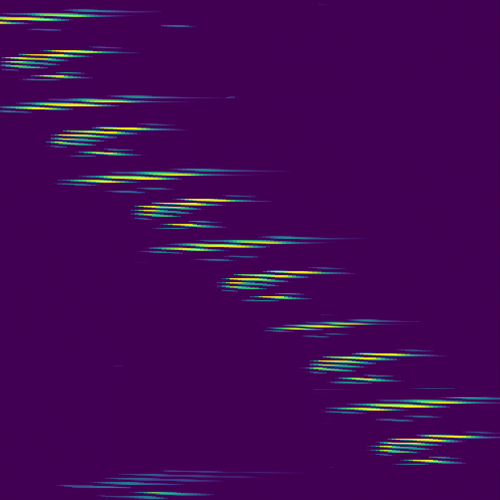semblance: (2, 43, 119, 80), (51, 122, 160, 158), (135, 194, 242, 229), (375, 431, 480, 466), (305, 350, 415, 383), (223, 267, 324, 301), (68, 167, 203, 187), (160, 235, 285, 254), (338, 397, 469, 414), (10, 96, 137, 113), (1, 7, 113, 26), (283, 319, 370, 333)
